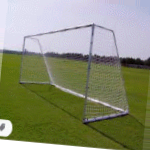goals: (17, 22, 132, 124)
